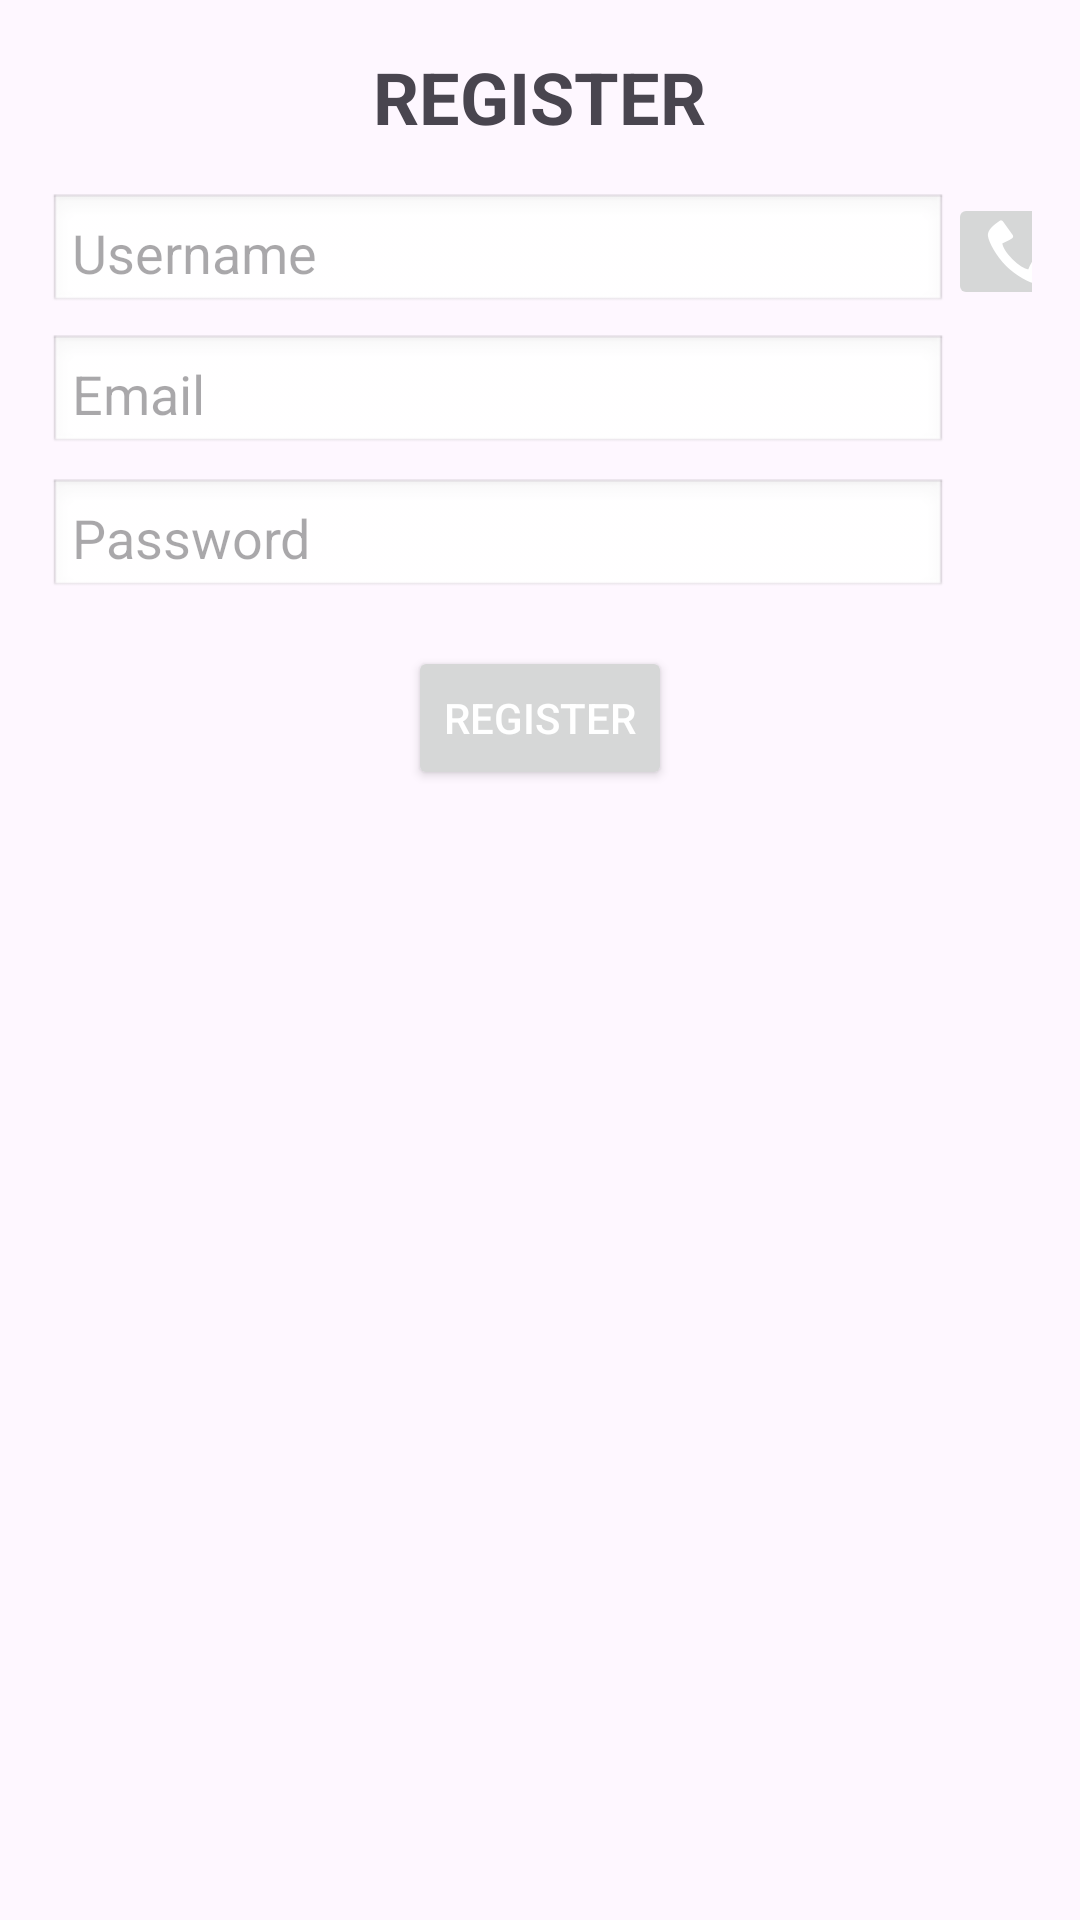

Icons on this 1080×1920 Android screen, each with the point to tap as point (x, y):
phone call: point (996, 251)
